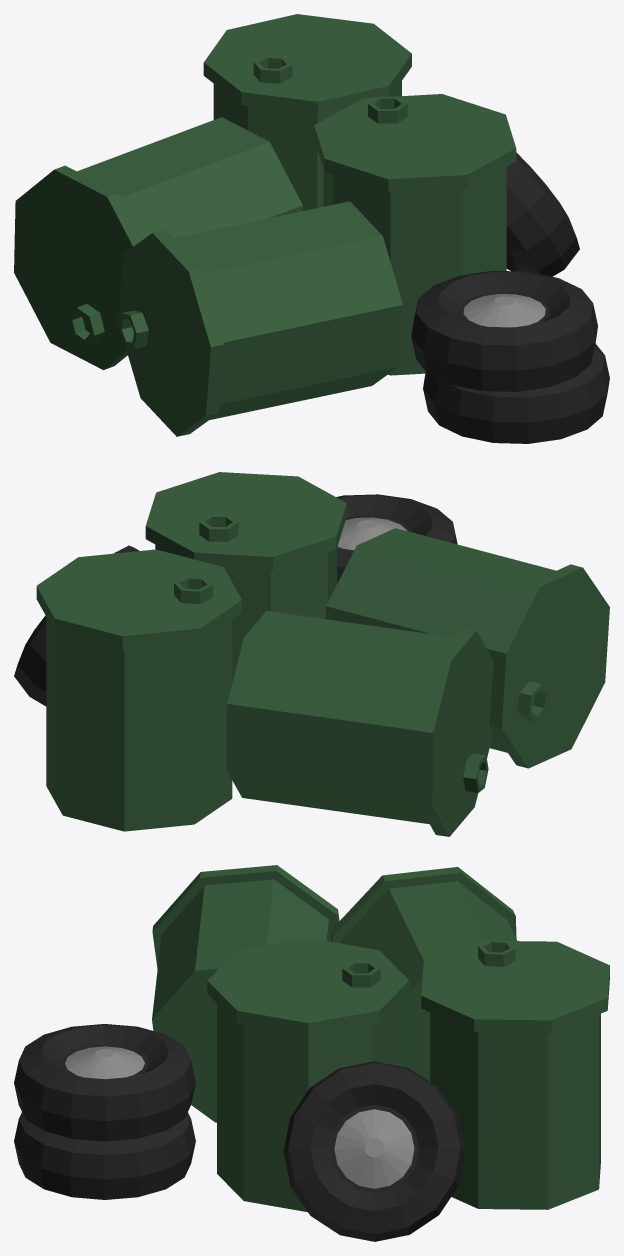
File: Barrels.fbx
The picture shows the model from 3 angles, top to bottom: view 1: azimuth 30°, elevation 25°; view 2: azimuth 150°, elevation 25°; view 3: azimuth 270°, elevation 25°; orthographic projection. The views are drawn at different scales.
Visible parts, largest first — view 1: Barrel_4, Barrel_3, Barrel, Barrel_2, Wheel_2, Wheel_3, Wheel; view 2: Barrel_2, Barrel_3, Barrel_4, Barrel, Wheel_2, Wheel; view 3: Barrel_2, Barrel, Wheel, Barrel_4, Wheel_2, Barrel_3, Wheel_3.
Part boxes in pixels (x1,y1,x2,y2): Barrel_4: (118, 201, 402, 436); Barrel_3: (14, 117, 302, 369); Barrel: (314, 94, 516, 375); Barrel_2: (203, 14, 411, 210); Wheel_2: (411, 270, 597, 391); Wheel_3: (423, 343, 609, 443); Wheel: (506, 152, 579, 276); Barrel_2: (36, 549, 241, 831); Barrel_3: (226, 611, 493, 836); Barrel_4: (325, 528, 609, 768); Barrel: (145, 472, 346, 682); Wheel_2: (336, 494, 457, 583); Wheel: (14, 545, 139, 706); Barrel_2: (421, 940, 609, 1209); Barrel: (207, 938, 409, 1212); Wheel: (283, 1061, 465, 1241); Barrel_4: (152, 865, 339, 1122); Wheel_2: (14, 1024, 195, 1141); Barrel_3: (330, 867, 517, 1081); Wheel_3: (14, 1112, 195, 1199).
Size of the model in its own units: 4.49 by 1.93 by 5.07.
